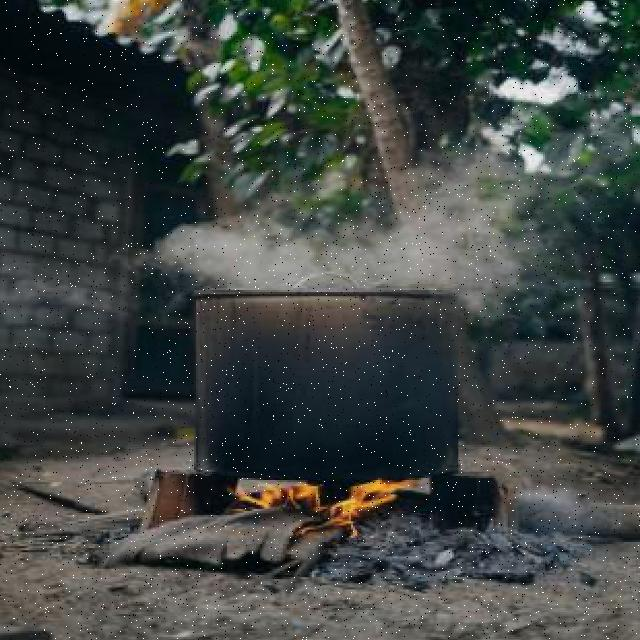fire: (225, 449, 440, 528)
smoke: (142, 178, 576, 315)
